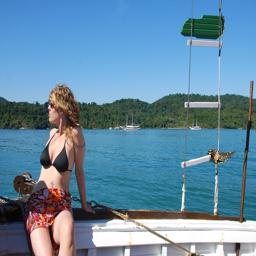Swallow: (207, 149, 236, 164)
